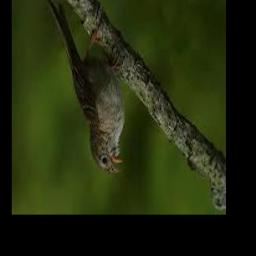Sparrow: (49, 0, 125, 176)
